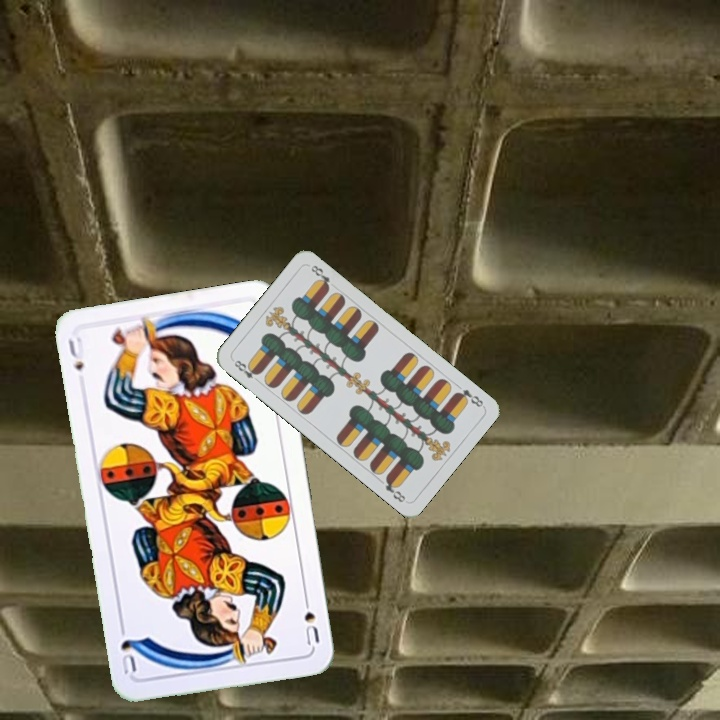E8: (229, 355, 262, 386), (451, 385, 486, 410)
SU: (299, 590, 322, 648), (64, 333, 87, 374)
